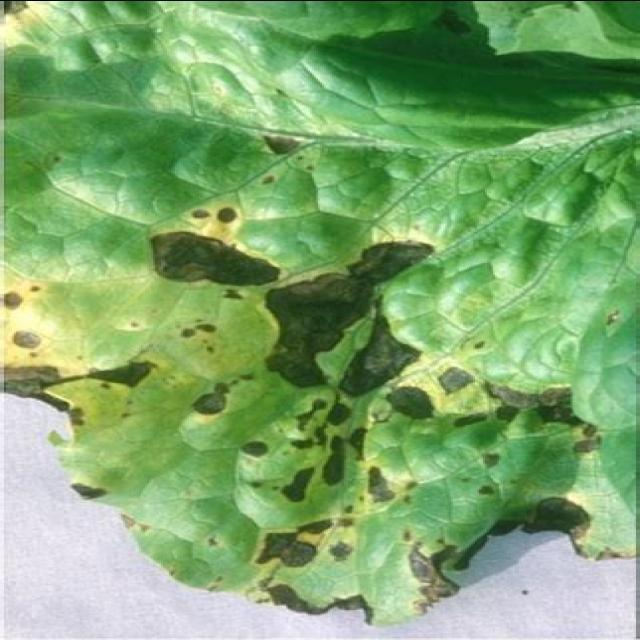Baby: (120, 201, 602, 451)
